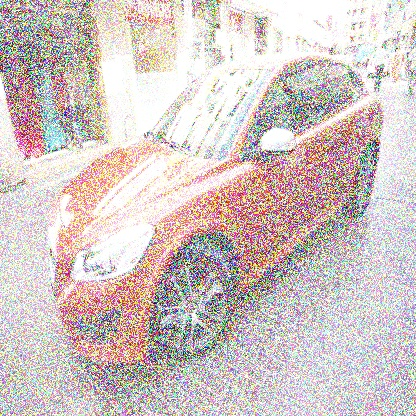Vehicle: (41, 53, 383, 374)
